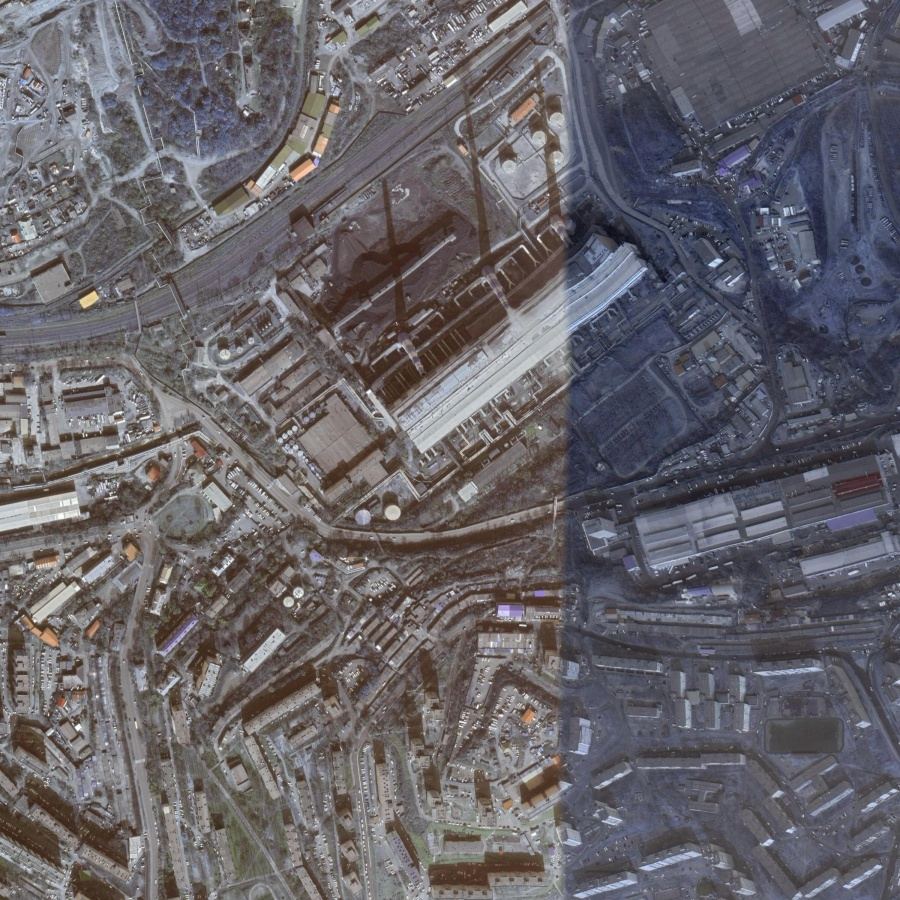PowerPlant: (316, 88, 644, 456)
